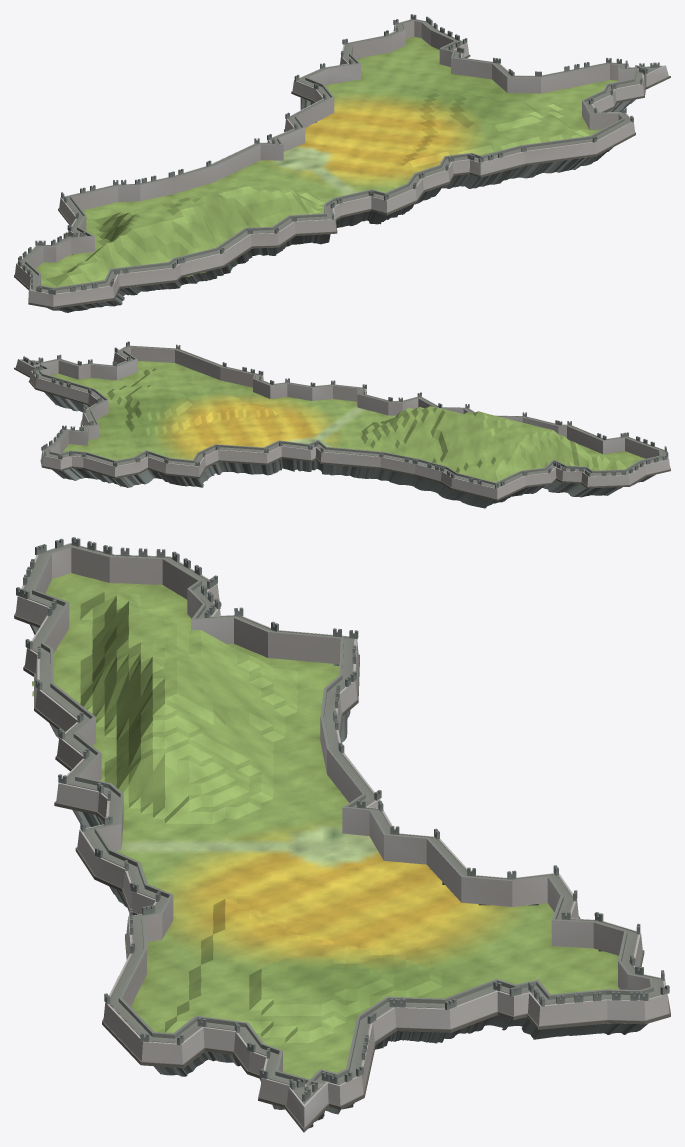
3 views of the same model, one above another, from view 1: azimuth 30°, elevation 25°; view 2: azimuth 150°, elevation 25°; view 3: azimuth 270°, elevation 25° (orthographic). The views are drawn at different scales.
Parts seen in each view (by area): view 1: ground_147db7ee; view 2: ground_147db7ee; view 3: ground_147db7ee.
Part boxes in pixels (x1,y1,x2,y2): ground_147db7ee: (14,14,670,312); ground_147db7ee: (14,341,670,508); ground_147db7ee: (14,537,670,1132).
Bounding box in the file's own units: 168 × 12.58 × 81.73.
Materials: 3 (1 with a texture image).
